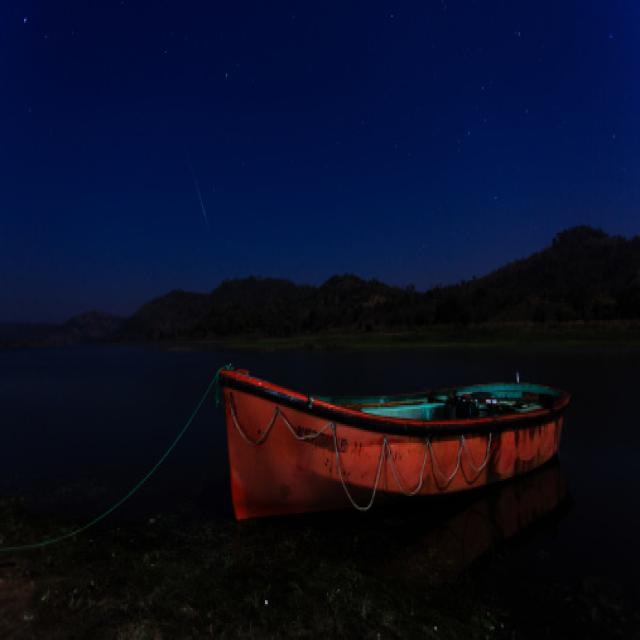Boat: (218, 347, 577, 530)
